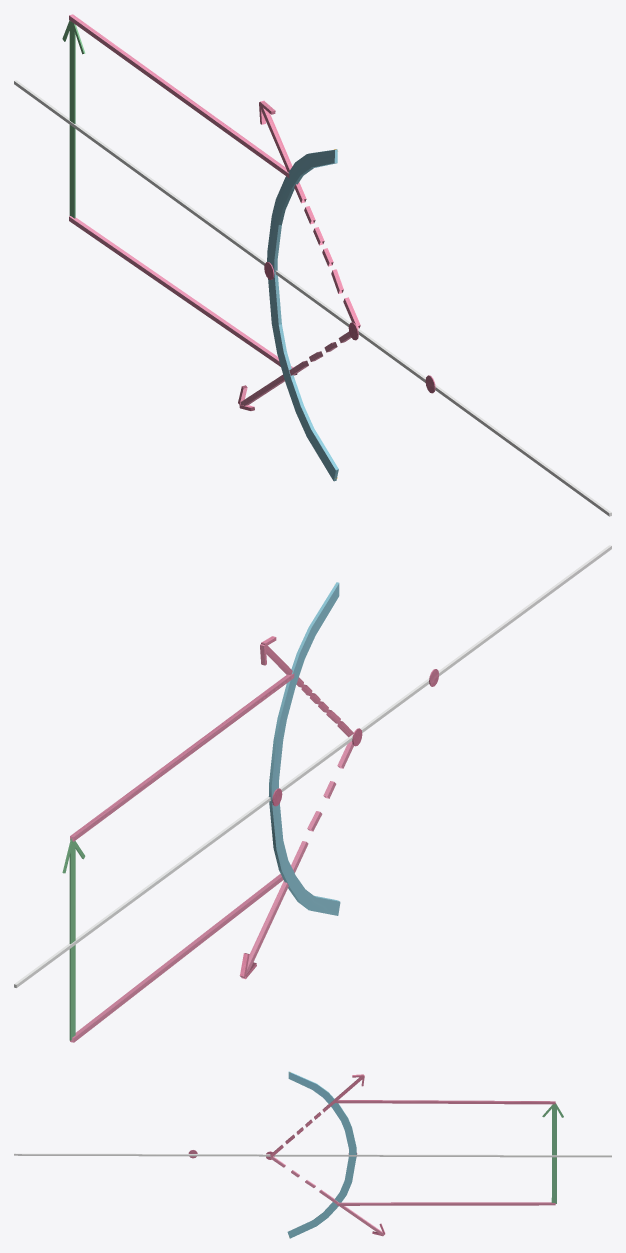
The model's file is convex_case1.fbx.
The picture shows the model from 3 angles, top to bottom: view 1: azimuth 30°, elevation 25°; view 2: azimuth 150°, elevation 25°; view 3: azimuth 270°, elevation 25°; orthographic projection. The views are drawn at different scales.
Parts seen in each view (by area): view 1: convex_case1; view 2: convex_case1; view 3: convex_case1.
Part boxes in pixels (<box>): convex_case1: <box>14,14,611,516</box>; convex_case1: <box>14,545,611,1042</box>; convex_case1: <box>14,1071,611,1238</box>.
Size of the model in its own units: 1.59 by 38.58 by 125.
1 material, 1 textured.
